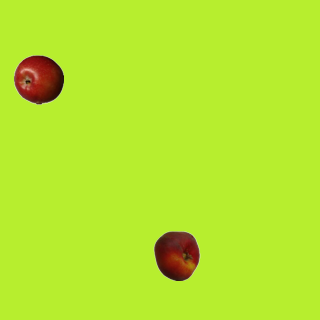Apple Braeburn: (13, 54, 63, 104)
Nectarine Flat: (151, 230, 201, 280)
